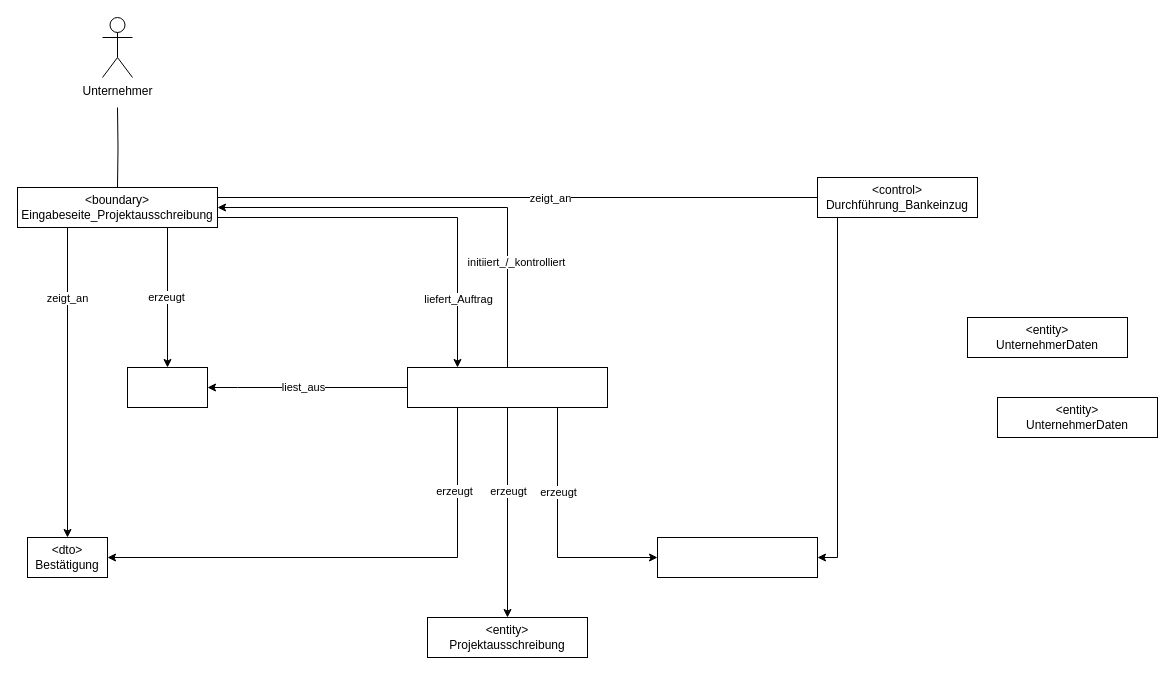
The diagram is 1175 pixels wide and 675 high, and some of its shapes have lost their labels. The shapes that lost their labels are listed below. From the top down, each one's centre as x and y in pixels, then its label:
point 167,387: <dto> Auftrag
point 507,387: <control> ProjektausschreibungAufgabe
point 737,557: <dto> Gesamtübersicht
